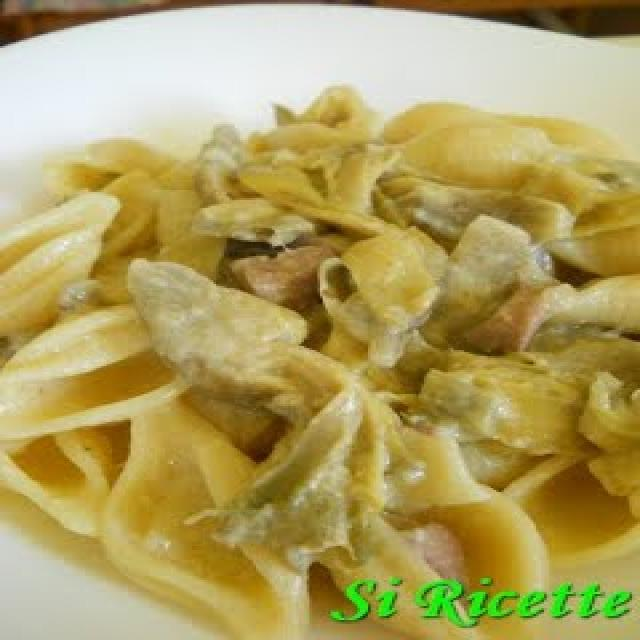Pasta al ragu: (34, 80, 640, 564)
